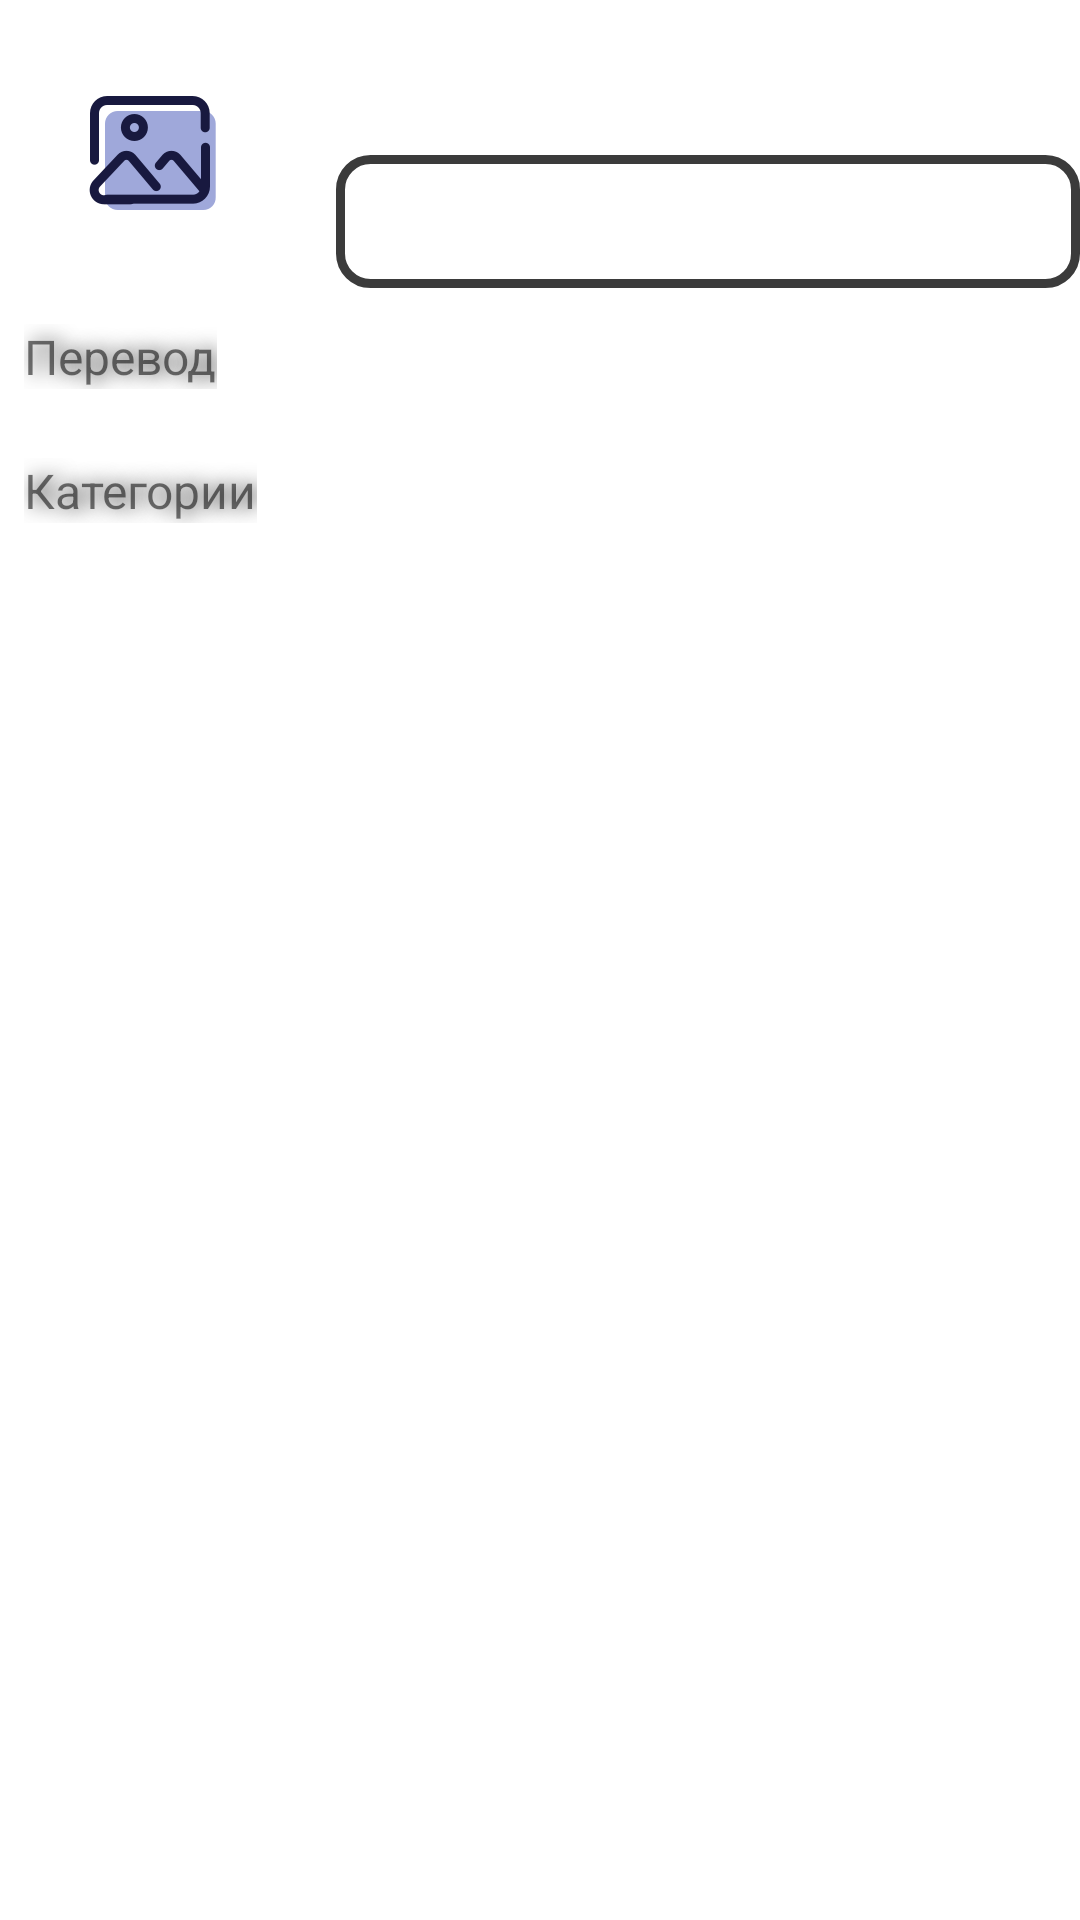

Where to tap for icons on this 1080w x 1920h app screen, as (x=x, y=y):
empty picture: (x=152, y=153)
